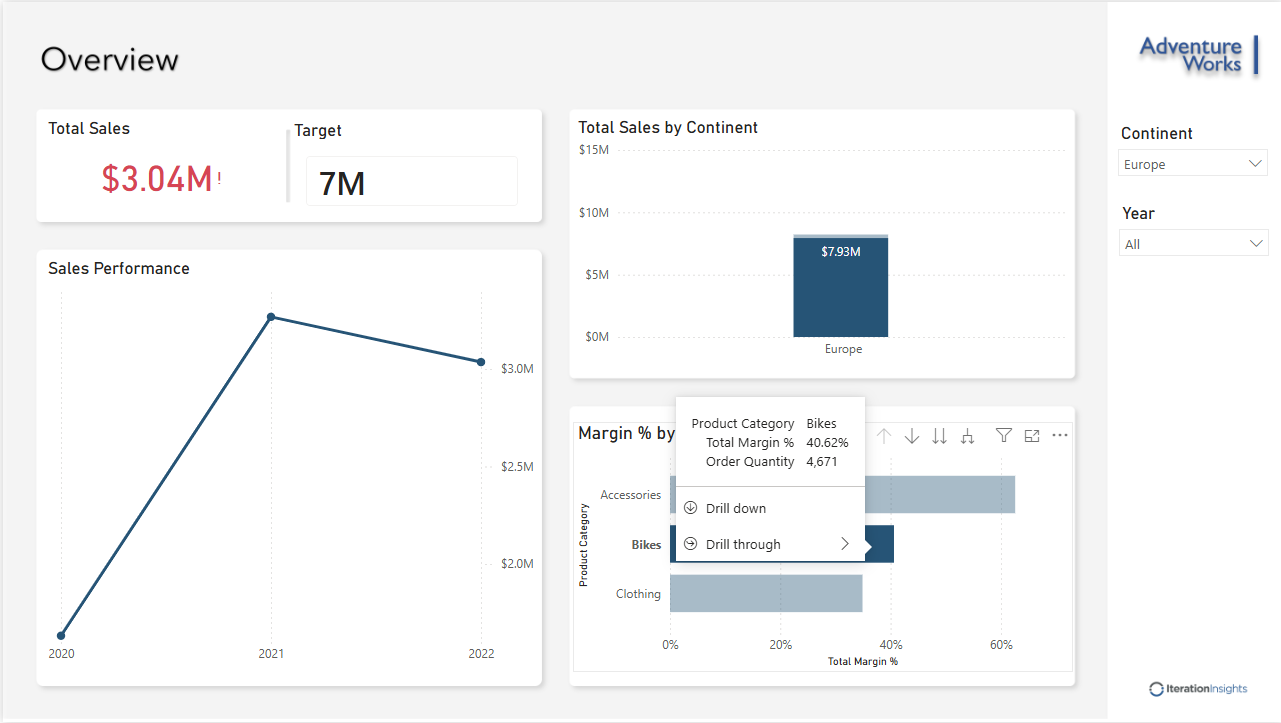

The page's visual inventory and layout, read from the dashboard file:
{"tool":"powerbi","page":{"name":"Overview","canvas":[1280,720],"ordinal":0},"visuals":[{"type":"slicer","title":"Slicer Year","fields":{"Values":["Order Date.Order Date Year"]},"box":[1105.7,195.7,170,80],"z":6000},{"type":"slicer","title":"Slicer Continent","fields":{"Values":["Sales Territory.Sales Territory Continent"]},"box":[1105,115.7,170,70],"z":6015},{"type":"clusteredBarChart","title":"Margin % by Product Category","fields":{"Category":["Product.Product Hierarchy.Product Category","Product.Product Hierarchy.Product Subcategory"],"Y":["Sales.Total Margin %"]},"box":[570,420,500,250],"z":6031},{"type":"lineChart","title":"Sales Performance","fields":{"Category":["Order Date.Order Date Hierarchy.Order Date Year","Order Date.Order Date Hierarchy.Order Date Month","Order Date.Order Date Hierarchy.Order Date"],"Y2":["Sales.Total Sales"]},"box":[40,255.7,495.7,414.3],"z":6062},{"type":"clusteredColumnChart","title":"Total Sales by Continent","fields":{"Category":["Sales Territory.Sales Territory Continent"],"Y":["Sales.Total Sales"]},"box":[570,115,500,250],"z":6125},{"type":"cardVisual","title":"Target","fields":{"Data":["Sales.Target"]},"box":[288.6,115.7,240,100],"z":6250},{"type":"kpi","title":"Total Sales","fields":{"Goal":["Sales.Target"],"Indicator":["Sales.Total Sales"],"TrendLine":["Order Date.Order Date Year"]},"box":[40,115.7,240,100],"z":7250}]}

Visuals, with their boxes in screenshot pixels (x1, y1, x2, y2), scaled from the page's 1280x720 canvas onto the 1281x723 screenshot:
"Slicer Year" slicer: bbox(1107, 197, 1277, 277)
"Slicer Continent" slicer: bbox(1106, 116, 1276, 186)
"Margin % by Product Category" clusteredBarChart: bbox(570, 422, 1071, 673)
"Sales Performance" lineChart: bbox(40, 257, 536, 673)
"Total Sales by Continent" clusteredColumnChart: bbox(570, 115, 1071, 367)
"Target" cardVisual: bbox(289, 116, 529, 217)
"Total Sales" kpi: bbox(40, 116, 280, 217)
